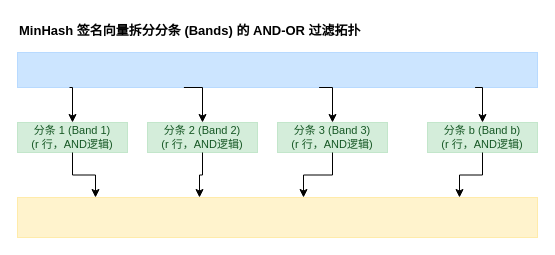
Image size: 555x255. Some labels were removed from this diagram. The shapes that lost their labels are listed below. From the top down, each one's centre as x and y in pixels, then its label:
At point 277,70: "高维签名向量 (K 维) [ s_1, s_2, ..., s_r | s_r+1, ..., s_2r | s_2r+1, ..., s_3r | ... ]".
At point 277,217: "OR 门控决策：只要有任意一个分条(Band)碰撞，两文档即判定碰撞，送入去重候选池".
